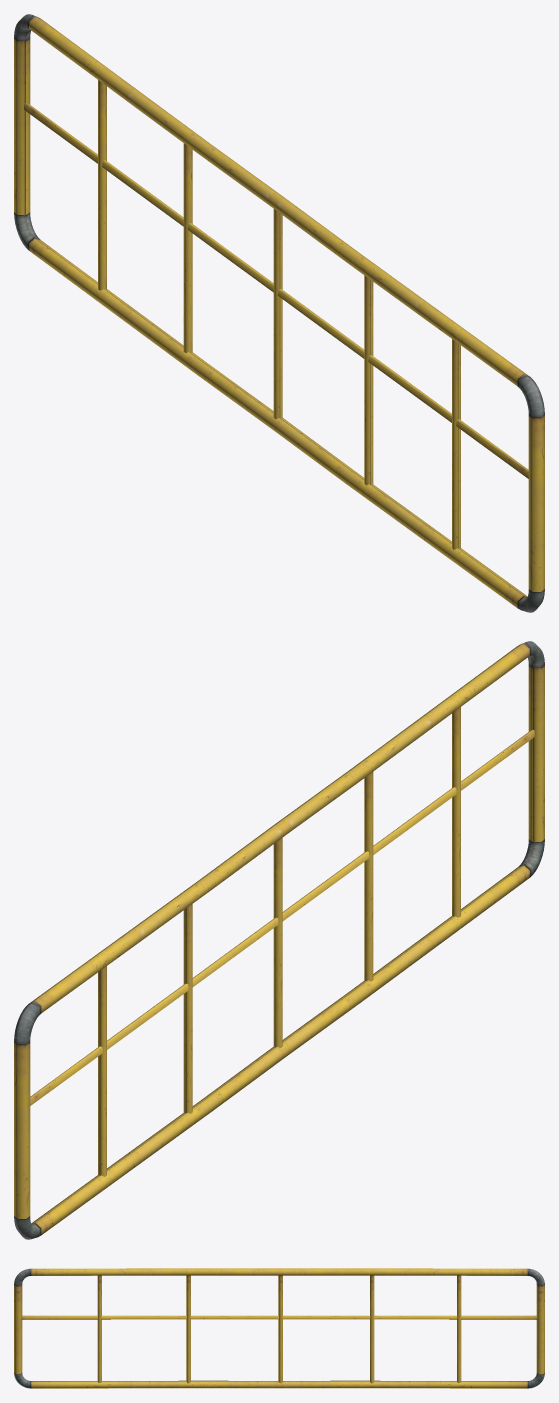
File: Railing_06.fbx
3 views of the same model, one above another, from view 1: azimuth 30°, elevation 25°; view 2: azimuth 150°, elevation 25°; view 3: azimuth 270°, elevation 25° (orthographic). The views are drawn at different scales.
Parts seen in each view (by area): view 1: Railing_06; view 2: Railing_06; view 3: Railing_06.
Part boxes in pixels (x1,y1,x2,y2): Railing_06: (14, 14, 544, 612); Railing_06: (14, 641, 544, 1239); Railing_06: (14, 1268, 544, 1388).
Size of the model in its own units: 5.9 by 97.99 by 393.
1 material, 1 textured.
